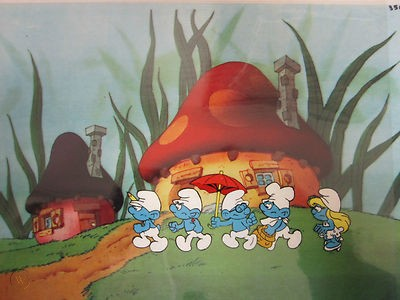smurf: (256, 182, 303, 250), (209, 189, 258, 252), (166, 187, 212, 252), (306, 188, 351, 252), (126, 188, 170, 253)
